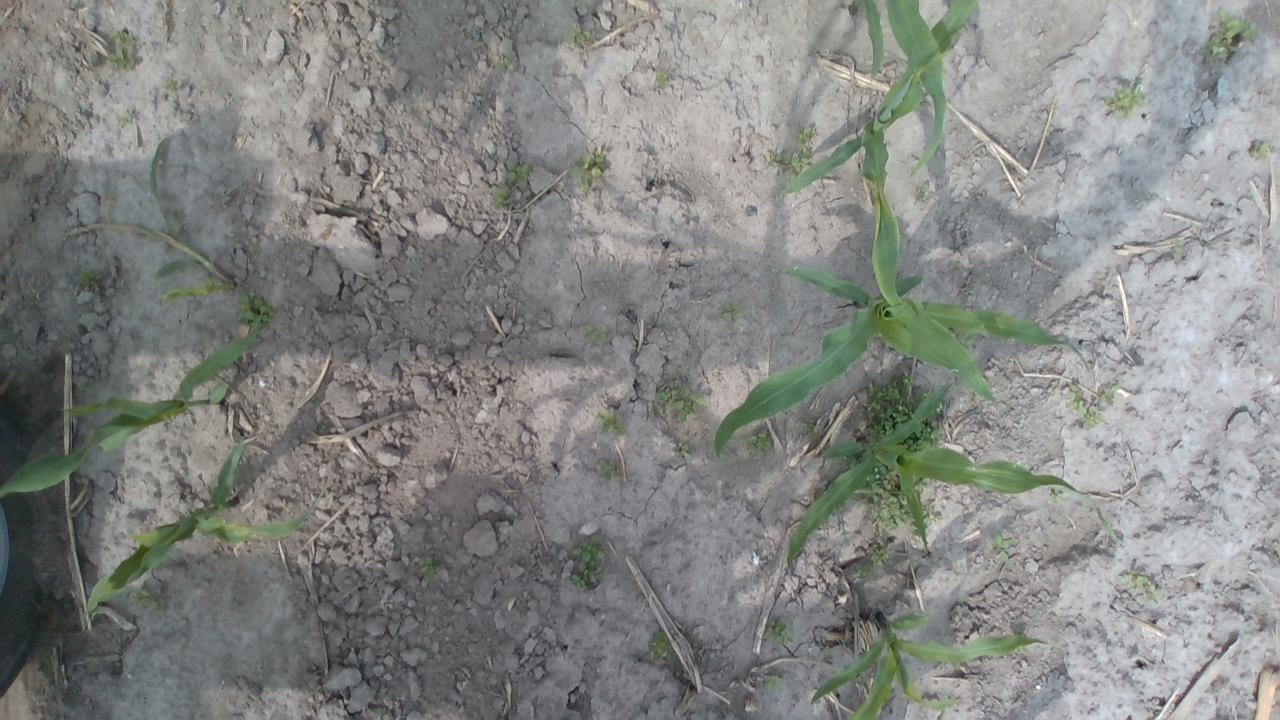Maize: (709, 189, 1093, 466), (0, 307, 281, 505), (78, 432, 318, 631), (780, 0, 986, 205), (861, 0, 950, 182)
Weeds: (855, 368, 947, 552), (1204, 5, 1255, 63), (1068, 378, 1122, 432), (654, 378, 710, 428), (765, 122, 819, 172), (486, 162, 532, 208), (571, 536, 608, 592), (1102, 80, 1149, 121), (103, 28, 141, 74), (1125, 566, 1167, 604), (856, 544, 889, 590), (571, 151, 608, 188), (122, 591, 167, 615), (746, 426, 777, 459), (578, 320, 614, 344), (599, 408, 626, 435), (596, 459, 626, 482), (770, 618, 794, 646), (650, 636, 670, 669), (762, 672, 788, 696), (70, 268, 96, 288), (420, 560, 439, 586), (497, 52, 520, 70), (570, 27, 592, 45), (996, 532, 1010, 560), (722, 303, 742, 321), (654, 69, 673, 87), (1249, 139, 1269, 156), (679, 442, 692, 456)
